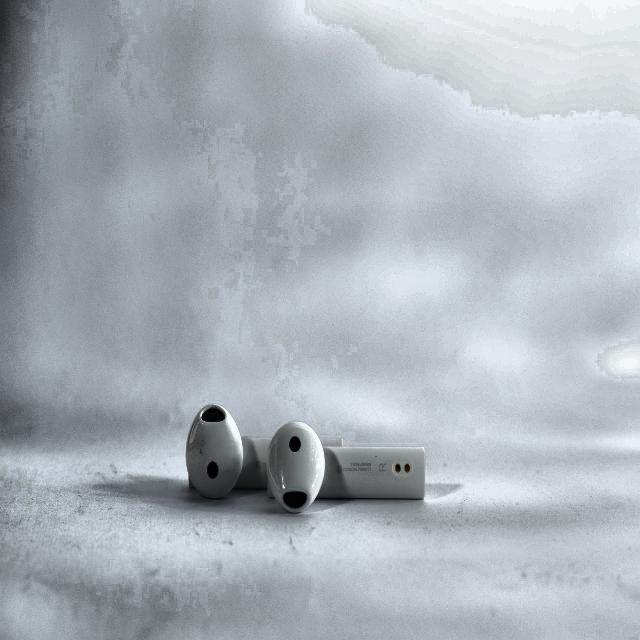Bluetooth headphones: (186, 404, 424, 513)
